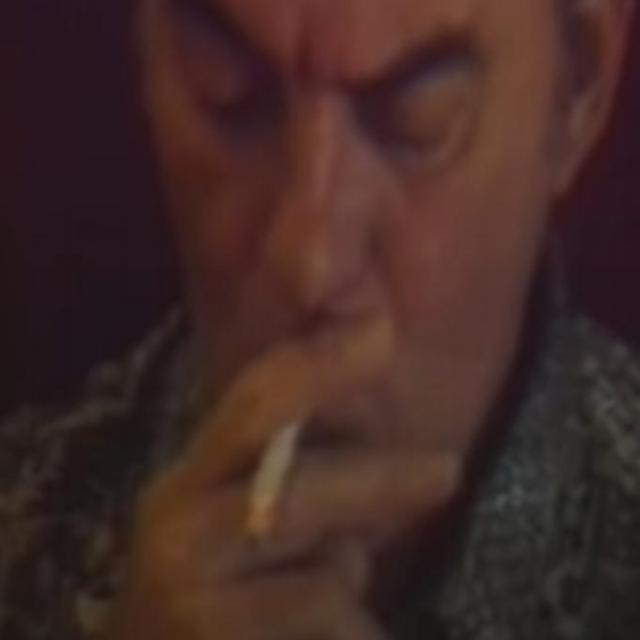cigarette: (216, 365, 347, 567)
